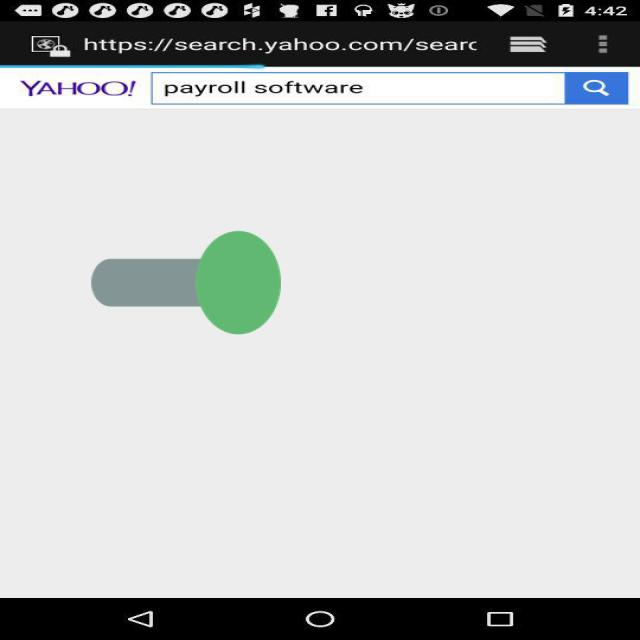social proof: (91, 167, 281, 398)
